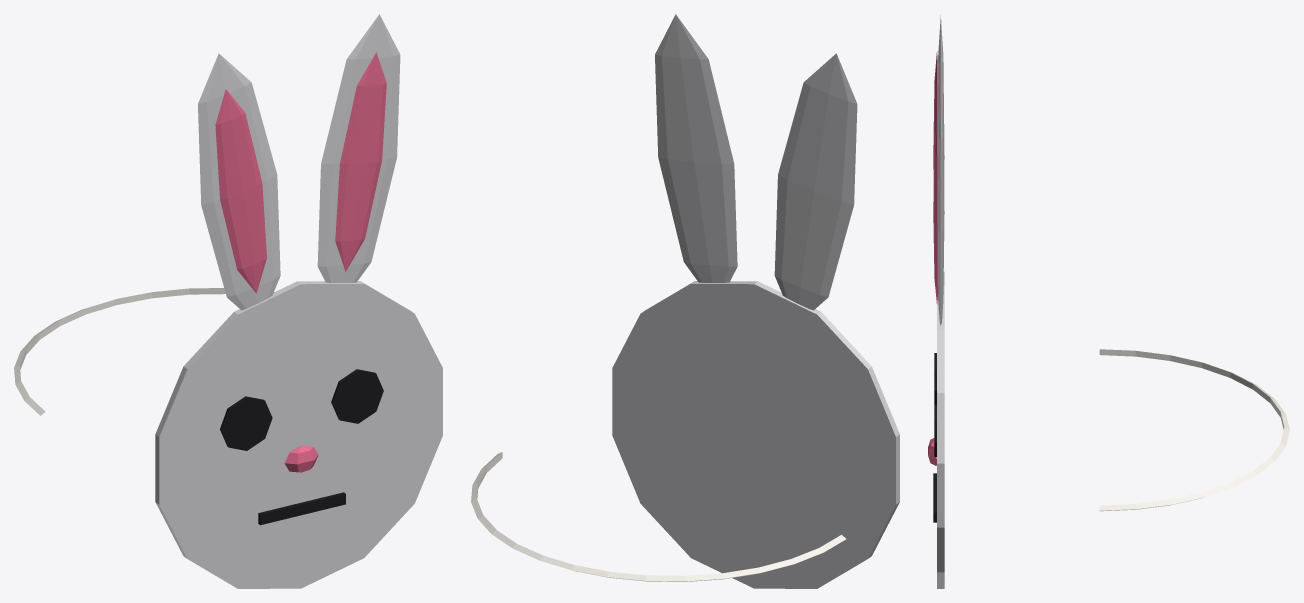
The model's file is bank_mask_conejo.glb.
3 views of the same model, side by side, from view 1: azimuth 30°, elevation 25°; view 2: azimuth 150°, elevation 25°; view 3: azimuth 270°, elevation 25° (orthographic). The views are drawn at different scales.
Visible parts, largest first — view 1: card_card_conejo, card_card_pink, card_card_ink, elastic_card_elastic; view 2: card_card_conejo, elastic_card_elastic; view 3: card_card_conejo, elastic_card_elastic, card_card_pink, card_card_ink.
Part boxes in pixels (bbox=[...]): card_card_conejo: bbox=[155, 14, 442, 588]; card_card_pink: bbox=[215, 52, 386, 472]; card_card_ink: bbox=[220, 369, 383, 525]; elastic_card_elastic: bbox=[14, 288, 274, 415]; card_card_conejo: bbox=[612, 14, 899, 588]; elastic_card_elastic: bbox=[471, 452, 846, 581]; card_card_conejo: bbox=[937, 15, 944, 588]; elastic_card_elastic: bbox=[1099, 349, 1289, 511]; card_card_pink: bbox=[928, 51, 938, 465]; card_card_ink: bbox=[933, 353, 936, 522].
Size of the model in its own units: 0.408 by 0.6182 by 0.3877.
